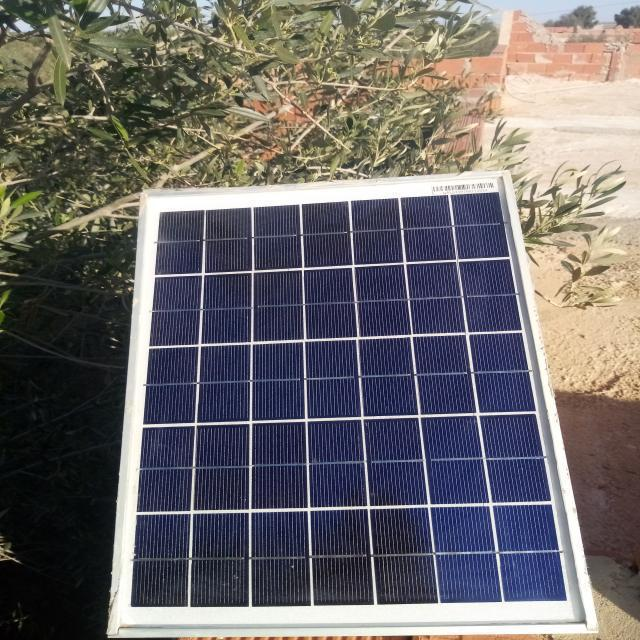Normal Solar Panel: (107, 174, 601, 632)
